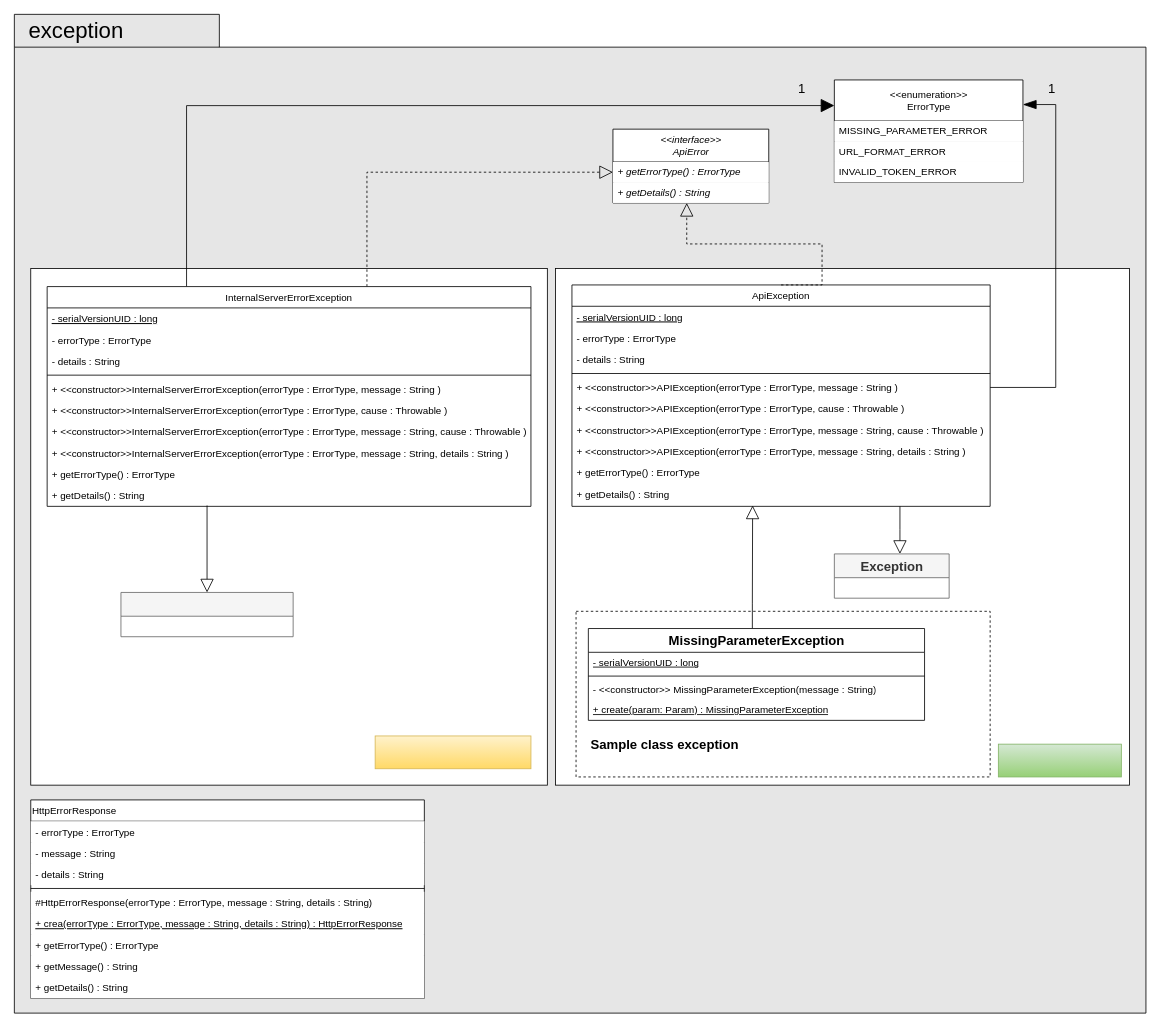
Image size: 1160x1027. Some labels were removed from this diagram. The centre of each missing label's shape, as x and y in pixels:
"CHECKED" goes at (1059,760).
"RunTimeException" goes at (206,614).
"UNCHECKED" goes at (452,752).
